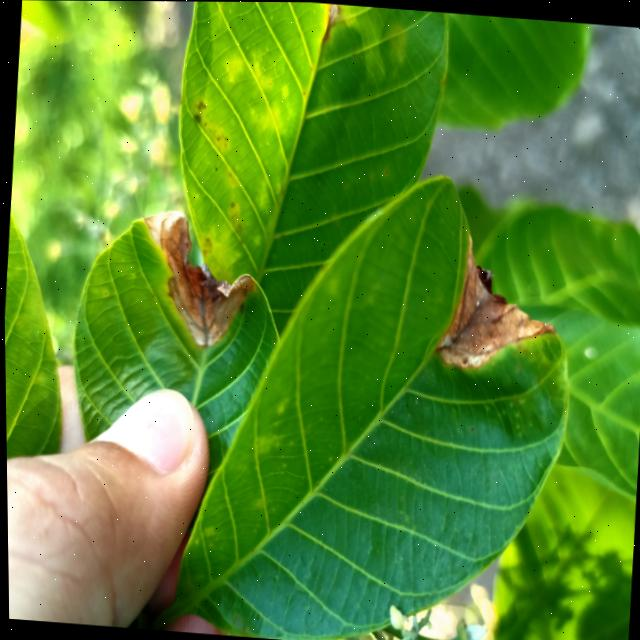Leaf-Blight: (431, 228, 562, 373), (133, 206, 259, 350)
